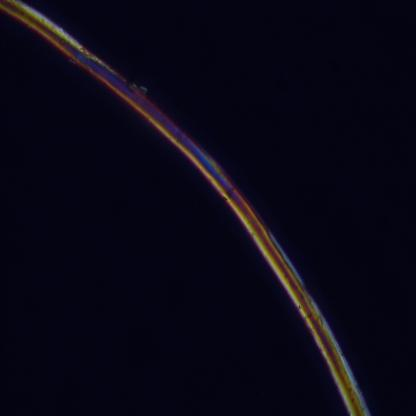Microfibre: (1, 0, 370, 414)
